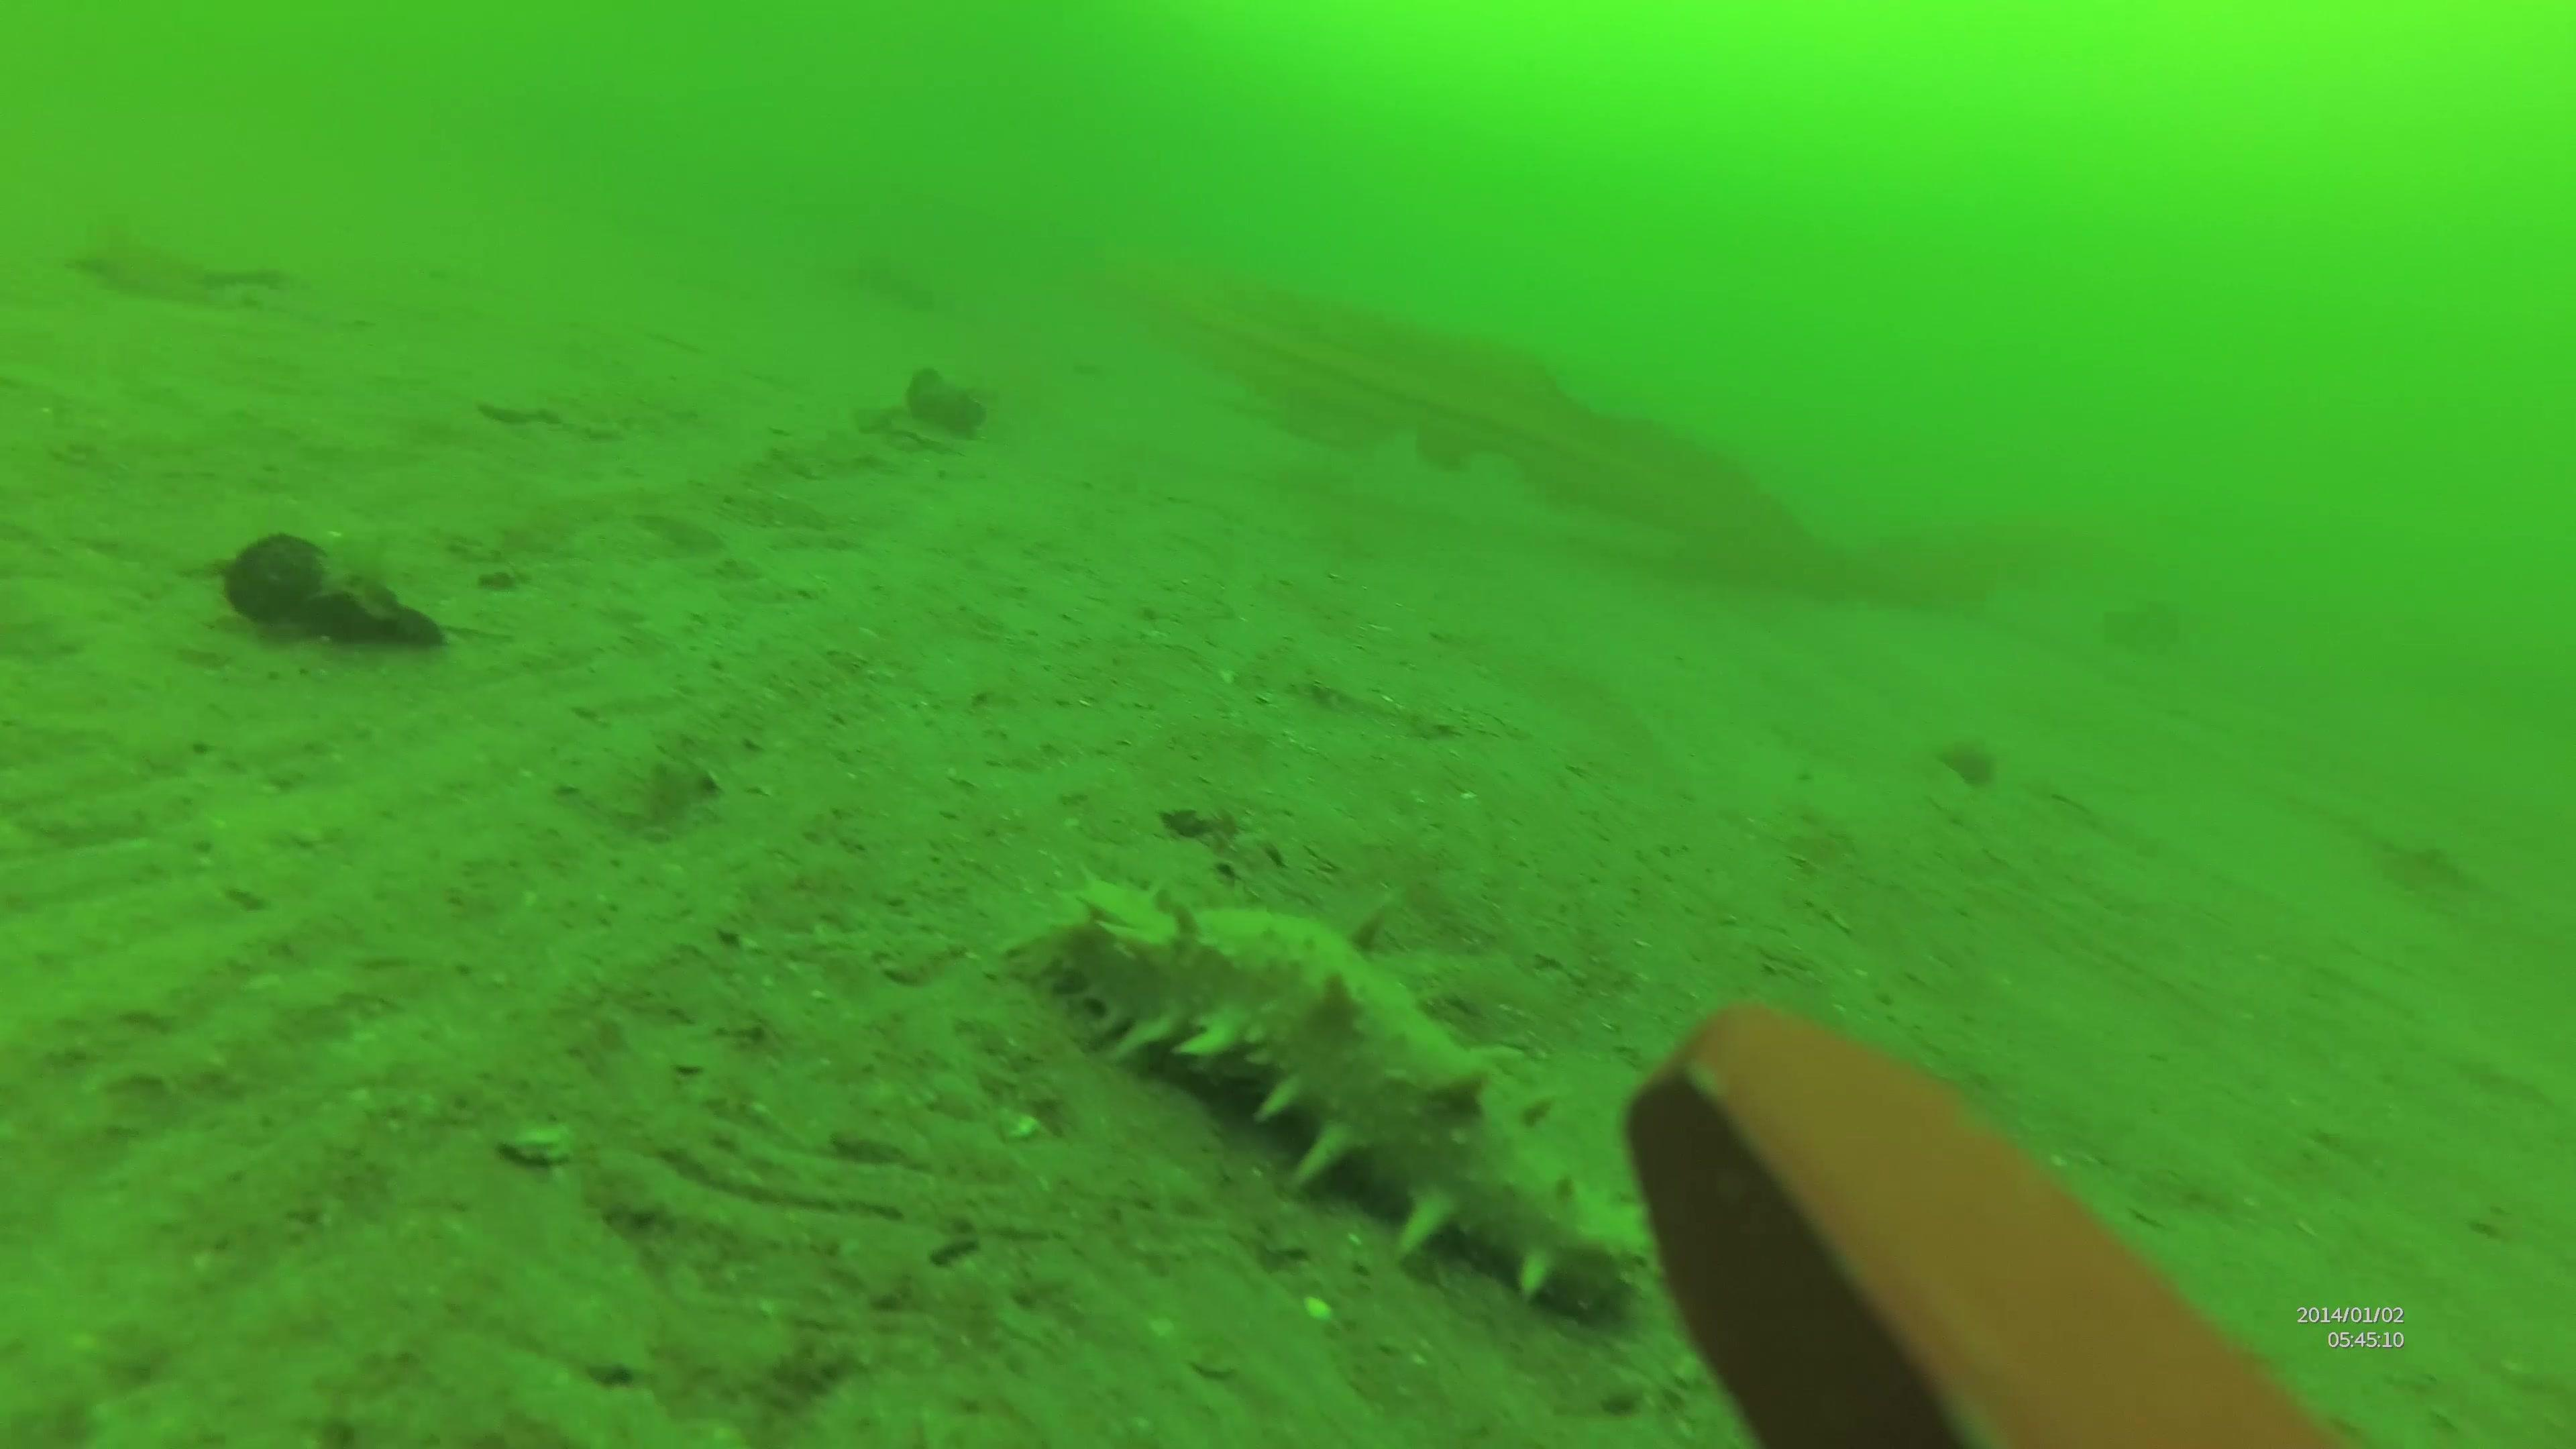echinus: (225, 531, 333, 625)
holothurian: (1008, 879, 1647, 1309)
